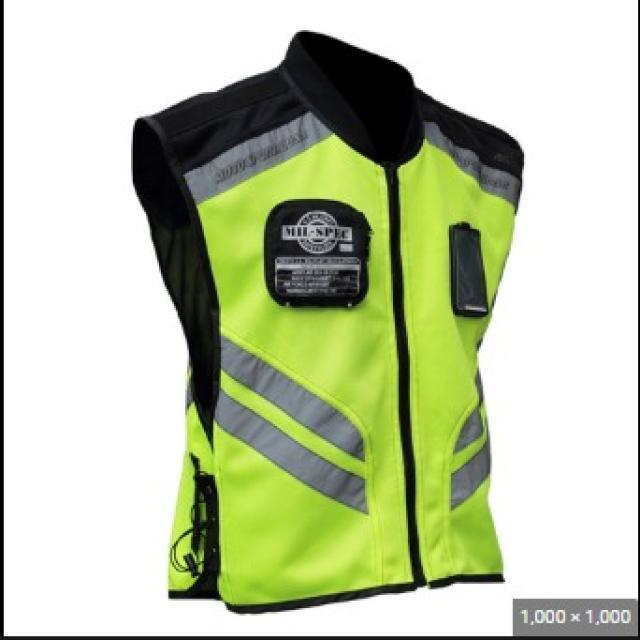safety_helmet: (134, 34, 528, 611)
